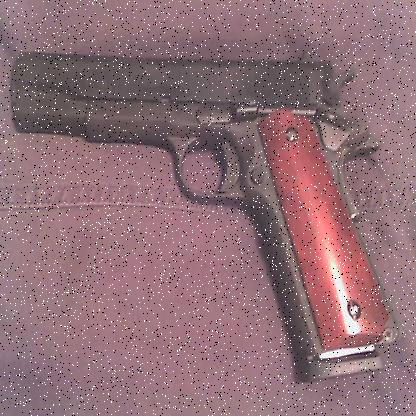pistol: (9, 48, 398, 379)
